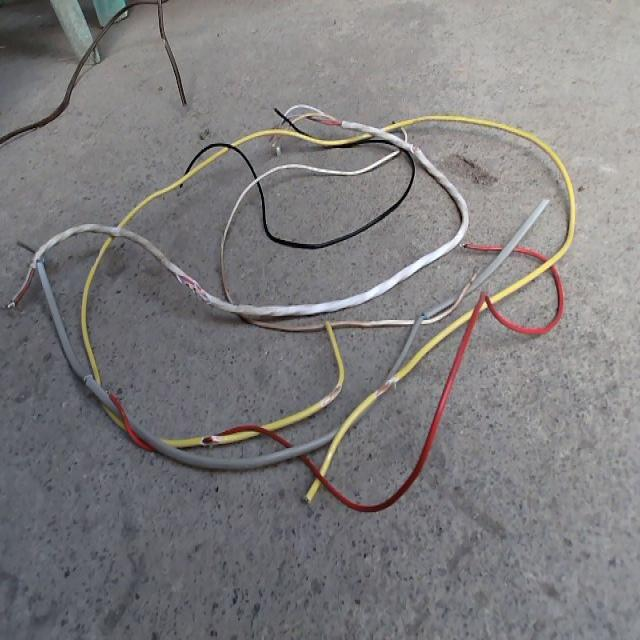-: (176, 269, 210, 303), (321, 384, 343, 404), (374, 376, 393, 397), (200, 432, 220, 445), (409, 140, 419, 153)
